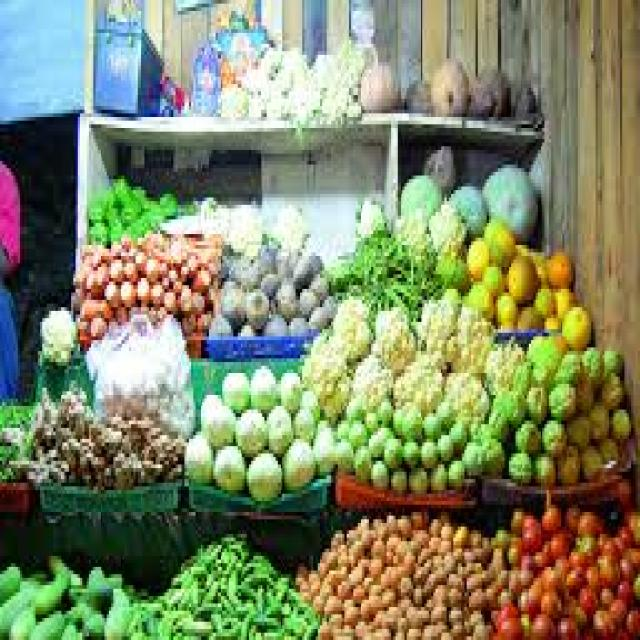organic waste: (298, 322, 347, 420), (480, 161, 538, 238), (296, 48, 360, 114), (411, 289, 458, 366), (389, 347, 444, 406), (447, 300, 491, 373), (369, 296, 413, 366), (331, 292, 371, 358), (440, 370, 489, 420), (482, 336, 524, 392), (426, 55, 466, 113), (347, 348, 389, 402), (358, 48, 396, 106), (398, 172, 438, 227), (178, 538, 224, 585), (36, 304, 76, 358), (42, 548, 82, 600), (158, 585, 198, 636), (444, 180, 484, 230), (31, 564, 69, 614), (198, 388, 233, 442), (211, 526, 247, 578), (271, 201, 307, 252), (244, 447, 280, 498), (420, 139, 453, 194), (262, 398, 294, 454), (227, 198, 264, 245), (182, 424, 211, 483), (211, 436, 245, 486), (280, 439, 313, 490), (476, 62, 511, 110), (127, 585, 162, 633), (202, 556, 247, 592), (429, 201, 462, 249), (233, 402, 264, 453), (16, 442, 62, 476), (60, 600, 102, 636), (31, 380, 58, 436), (62, 439, 104, 475), (100, 582, 127, 636), (393, 205, 429, 245), (504, 252, 536, 296), (178, 574, 220, 607), (531, 333, 565, 373), (69, 578, 109, 611), (484, 216, 514, 260), (246, 44, 278, 84), (560, 304, 589, 348), (353, 194, 382, 238), (249, 362, 275, 410), (218, 370, 249, 410), (196, 194, 224, 238), (276, 44, 306, 84), (153, 432, 180, 476), (311, 421, 333, 472), (58, 392, 86, 432), (115, 410, 146, 446), (111, 172, 138, 212), (0, 589, 27, 629), (80, 292, 116, 322), (84, 424, 120, 454), (236, 559, 271, 589), (545, 245, 571, 285), (120, 201, 151, 234), (9, 457, 62, 476), (284, 585, 314, 618), (260, 77, 287, 113), (340, 406, 367, 442), (547, 380, 573, 417), (509, 413, 535, 450), (507, 446, 533, 483), (467, 274, 493, 311), (109, 446, 135, 483), (582, 340, 602, 388), (556, 442, 580, 482), (220, 282, 244, 322), (218, 80, 246, 114), (484, 399, 509, 435), (231, 600, 256, 636), (29, 607, 60, 636), (554, 348, 582, 380), (467, 80, 493, 114), (500, 380, 522, 420), (276, 366, 298, 406), (291, 398, 313, 438), (331, 432, 353, 472), (264, 567, 286, 607), (322, 574, 351, 604), (0, 398, 33, 424), (111, 230, 167, 245), (534, 446, 556, 483), (244, 285, 266, 322), (574, 574, 596, 611), (280, 80, 307, 110), (540, 417, 564, 450), (567, 410, 589, 446), (464, 238, 486, 274), (367, 454, 389, 490), (271, 278, 293, 314), (524, 380, 544, 417), (460, 435, 480, 472), (276, 607, 304, 633), (404, 73, 426, 106), (480, 435, 502, 468), (609, 399, 629, 435), (0, 560, 18, 600), (513, 545, 531, 585), (389, 530, 413, 560), (478, 260, 500, 292), (9, 607, 33, 636), (0, 442, 24, 471), (516, 300, 540, 329), (589, 607, 613, 636), (536, 556, 560, 585), (178, 614, 209, 636), (514, 80, 534, 114), (564, 592, 584, 626), (494, 285, 514, 318), (516, 292, 538, 322), (367, 424, 389, 454), (538, 501, 558, 534), (546, 523, 566, 556), (518, 574, 538, 607), (84, 307, 109, 333), (576, 505, 602, 530), (580, 439, 598, 475), (589, 399, 607, 435), (400, 399, 418, 435), (444, 450, 462, 486), (353, 443, 371, 479), (622, 501, 638, 541), (600, 373, 622, 402), (187, 238, 216, 260), (518, 512, 540, 541), (509, 351, 533, 377), (16, 567, 44, 589), (136, 457, 164, 479), (551, 285, 571, 315), (534, 281, 554, 311), (529, 611, 553, 636), (540, 585, 560, 615), (249, 549, 273, 574), (300, 384, 318, 417), (422, 402, 440, 435), (262, 311, 289, 333), (167, 227, 200, 245), (496, 596, 518, 622), (380, 559, 409, 578), (598, 344, 620, 369), (407, 465, 429, 490), (291, 252, 307, 286), (382, 435, 400, 465), (606, 592, 624, 622), (496, 614, 520, 636), (576, 377, 594, 406), (104, 252, 124, 278), (614, 552, 634, 578), (451, 516, 467, 548), (255, 270, 278, 292), (222, 248, 245, 270), (131, 183, 151, 208), (298, 278, 318, 303), (306, 304, 326, 329), (556, 611, 576, 636), (149, 274, 164, 307), (86, 190, 105, 216), (404, 600, 426, 622), (327, 563, 349, 585), (144, 424, 169, 443), (157, 285, 175, 311), (531, 249, 547, 278), (429, 457, 444, 487), (176, 281, 191, 311), (616, 570, 631, 600), (598, 530, 613, 560), (213, 618, 238, 636), (86, 220, 106, 242), (236, 260, 256, 282), (426, 556, 446, 578), (406, 504, 426, 526), (344, 516, 364, 538), (309, 267, 324, 296), (347, 556, 362, 585), (207, 311, 231, 329), (258, 618, 282, 636), (156, 187, 173, 212), (375, 391, 389, 421), (0, 424, 22, 443), (400, 435, 416, 461), (80, 263, 96, 289), (622, 603, 638, 629), (413, 541, 429, 567), (364, 552, 380, 578), (247, 611, 276, 625), (433, 428, 449, 453), (142, 249, 158, 274), (102, 278, 118, 303), (553, 549, 569, 574), (304, 245, 322, 267), (393, 570, 411, 592), (409, 578, 427, 600), (413, 556, 431, 578), (342, 604, 360, 626), (418, 435, 433, 461), (207, 607, 222, 633), (469, 541, 489, 560), (107, 205, 120, 234), (327, 607, 340, 636), (249, 578, 262, 607), (118, 278, 133, 303), (429, 593, 444, 618), (245, 88, 262, 110), (362, 402, 376, 428), (564, 501, 578, 527), (611, 476, 627, 498), (491, 541, 507, 563), (444, 578, 460, 600), (320, 292, 338, 311), (369, 603, 387, 622), (629, 563, 638, 600), (389, 402, 400, 432), (389, 464, 404, 486), (276, 256, 291, 278), (69, 260, 84, 282), (598, 582, 613, 604), (598, 556, 613, 578), (507, 530, 518, 560), (469, 585, 484, 607), (429, 582, 444, 604), (600, 432, 613, 457), (449, 417, 462, 442), (509, 505, 522, 530), (102, 567, 120, 585), (256, 245, 274, 263), (464, 567, 482, 585), (298, 618, 316, 636), (193, 260, 207, 282), (484, 582, 498, 604), (355, 592, 369, 614), (395, 512, 409, 534), (84, 563, 100, 582), (542, 307, 558, 326), (506, 563, 516, 593), (60, 618, 76, 636), (291, 556, 307, 574), (440, 406, 453, 428), (94, 256, 105, 282), (369, 530, 384, 549), (138, 410, 158, 424), (616, 523, 631, 541), (113, 303, 127, 322), (122, 256, 134, 278), (384, 508, 396, 530), (496, 315, 514, 329), (233, 315, 251, 329), (491, 523, 505, 541), (291, 567, 305, 585), (316, 556, 326, 581), (429, 574, 442, 593), (193, 289, 204, 311), (609, 534, 620, 556), (300, 574, 311, 596), (411, 523, 427, 538), (384, 596, 400, 611), (289, 311, 302, 329), (447, 567, 460, 585), (420, 618, 433, 636), (349, 578, 362, 596), (444, 548, 456, 567), (178, 256, 193, 271), (520, 611, 529, 636), (467, 607, 482, 622), (320, 545, 336, 559), (136, 274, 146, 296), (316, 614, 326, 636), (354, 614, 364, 636), (404, 618, 416, 636), (449, 603, 460, 622), (438, 519, 449, 538), (369, 626, 389, 636), (131, 245, 140, 267), (169, 271, 180, 289), (189, 329, 198, 351), (493, 563, 502, 585), (513, 238, 527, 252), (531, 545, 545, 559), (169, 252, 182, 267), (180, 311, 193, 325), (369, 593, 382, 607), (329, 527, 342, 541), (309, 559, 315, 589), (373, 626, 391, 636), (438, 534, 449, 549), (471, 527, 480, 545), (433, 626, 449, 636), (451, 622, 462, 636), (382, 582, 393, 596), (424, 530, 434, 545), (480, 567, 493, 578), (474, 622, 484, 636), (433, 611, 442, 625), (340, 622, 349, 636), (391, 622, 400, 636), (367, 578, 378, 589), (156, 256, 164, 271), (436, 508, 446, 520), (149, 424, 162, 432), (373, 512, 382, 523), (427, 512, 433, 527), (480, 534, 489, 541), (429, 548, 435, 556)
